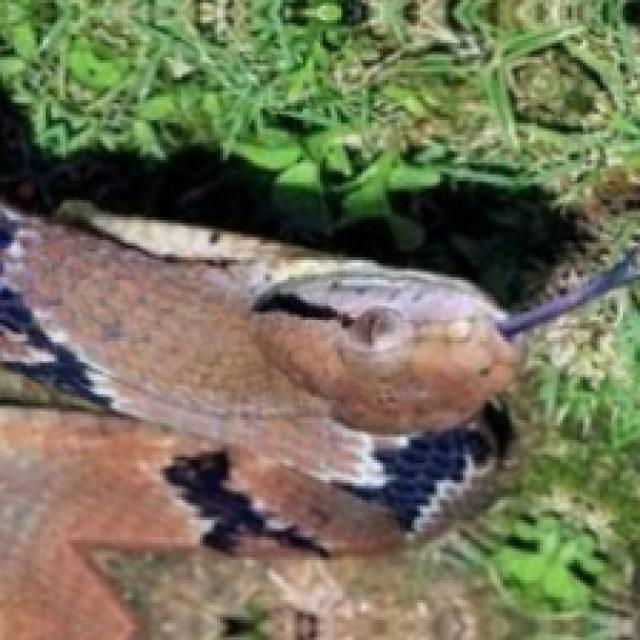dog-toothed cat snake: (0, 203, 637, 637)
